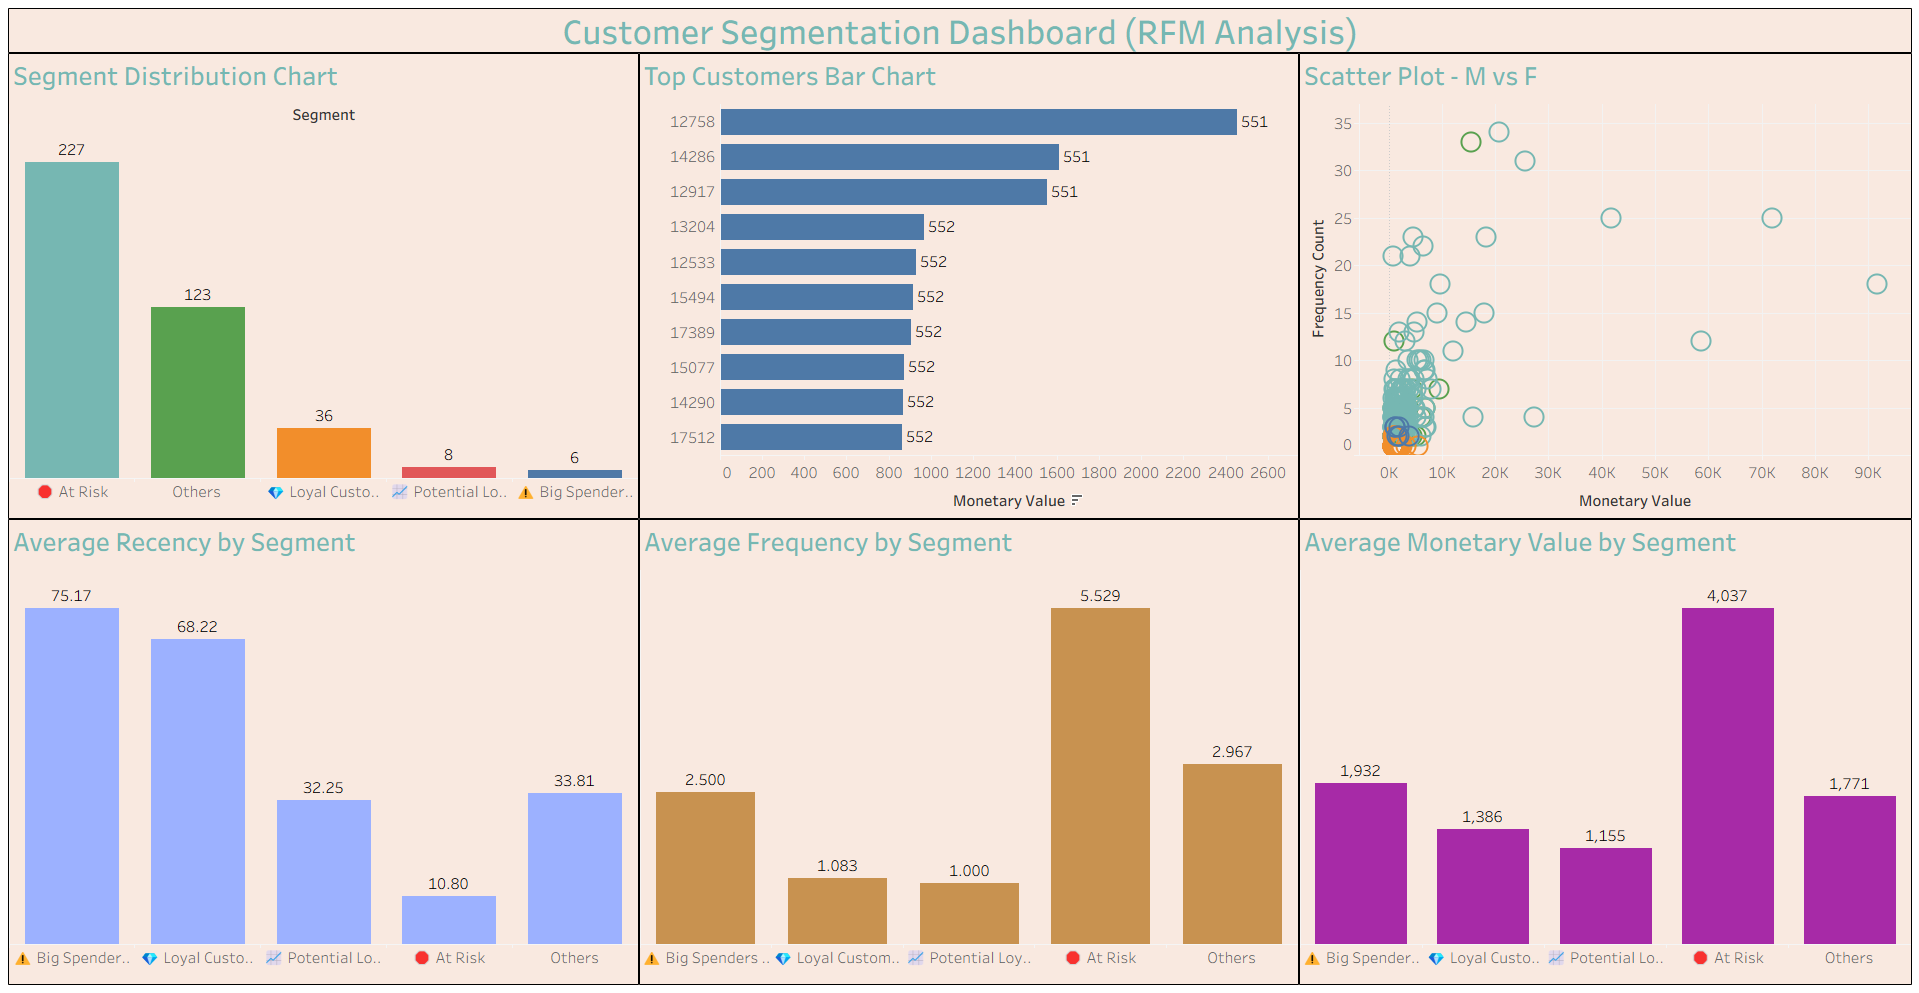

The dashboard page shown, as its layout file describes it:
{"tool":"tableau","page":{"name":"Dashboard 1","canvas":[1000,1000],"units":"permille","ordinal":0},"visuals":[{"type":"title","box":[4.8,9.3,990.3,52.3]},{"type":"worksheet","title":"Segment Distribution Chart","mark":"Automatic","rows":["CustomerID"],"cols":["Segment"],"box":[4.8,61.6,328.3,464.5]},{"type":"worksheet","title":"Top Customers Bar Chart","mark":"Automatic","rows":["CustomerID"],"cols":["Monetary_Value"],"box":[333.1,61.6,343.4,464.5]},{"type":"worksheet","title":"Scatter Plot - M vs F","mark":"Automatic","rows":["Frequency_Count"],"cols":["Monetary_Value"],"box":[676.5,61.6,318.7,464.5]},{"type":"worksheet","title":"Average Recency by Segment","mark":"Automatic","rows":["Recency_Days"],"cols":["Segment"],"box":[4.8,526,328.3,464.7]},{"type":"worksheet","title":"Average Frequency by Segment","mark":"Automatic","rows":["Frequency_Count"],"cols":["Segment"],"box":[333.1,526,343.4,464.7]},{"type":"worksheet","title":"Average Monetary Value by Segment","mark":"Automatic","rows":["Monetary_Value"],"cols":["Segment"],"box":[676.5,526,318.7,464.7]}]}

Visuals, with their boxes on the dashboard's canvas, which has no fixed pixel size, in thousandths of its width and height (x1, y1, x2, y2). These are canvas units, not pixel positions in the 1919x993 screenshot, which may show the page scaled, cropped or inside an application window:
title: <bbox>5, 9, 995, 62</bbox>
"Segment Distribution Chart" worksheet: <bbox>5, 62, 333, 526</bbox>
"Top Customers Bar Chart" worksheet: <bbox>333, 62, 676, 526</bbox>
"Scatter Plot - M vs F" worksheet: <bbox>676, 62, 995, 526</bbox>
"Average Recency by Segment" worksheet: <bbox>5, 526, 333, 991</bbox>
"Average Frequency by Segment" worksheet: <bbox>333, 526, 676, 991</bbox>
"Average Monetary Value by Segment" worksheet: <bbox>676, 526, 995, 991</bbox>
